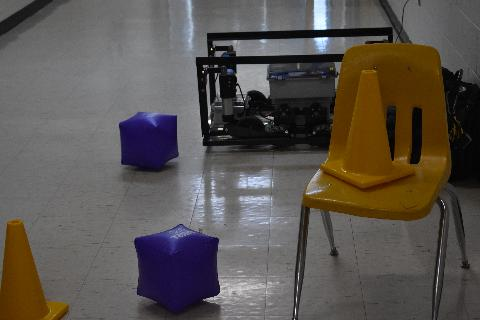cone: (320, 68, 416, 190), (1, 218, 70, 320)
cube: (134, 223, 220, 314), (118, 110, 180, 170)
